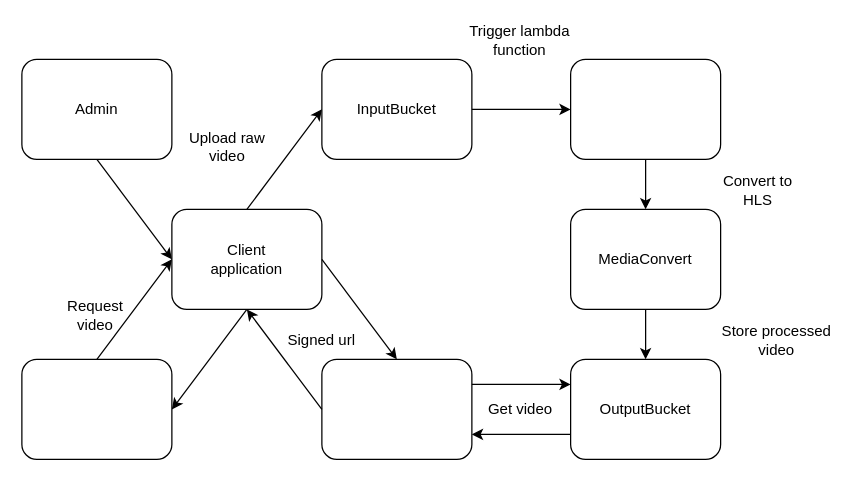
The diagram is 855 pixels wide and 481 high, and some of its shapes have lost their labels. Each missing label, with the box of its shape:
CloudFront: (321, 358, 472, 459)
Lambda: (569, 58, 721, 159)
Users: (21, 358, 172, 459)
